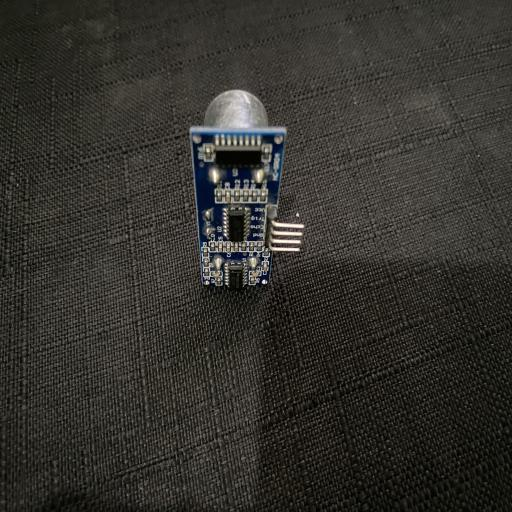Ultrasonic Sensor: (188, 89, 304, 289)
